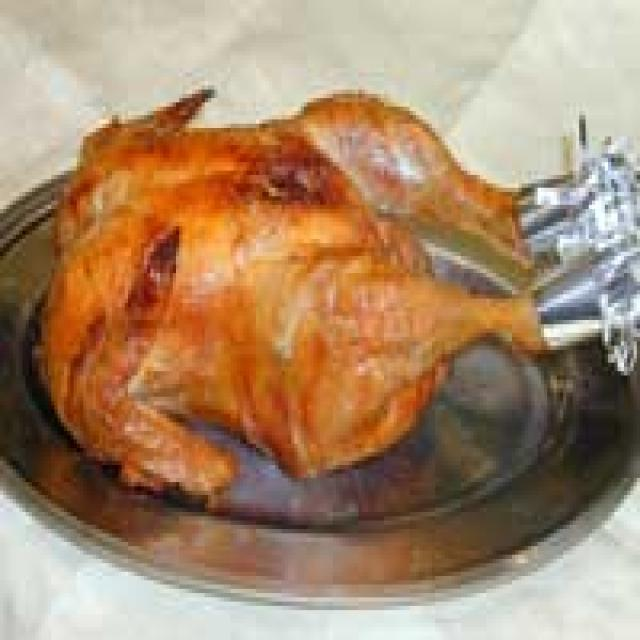Chicken roast: (45, 73, 640, 470)
